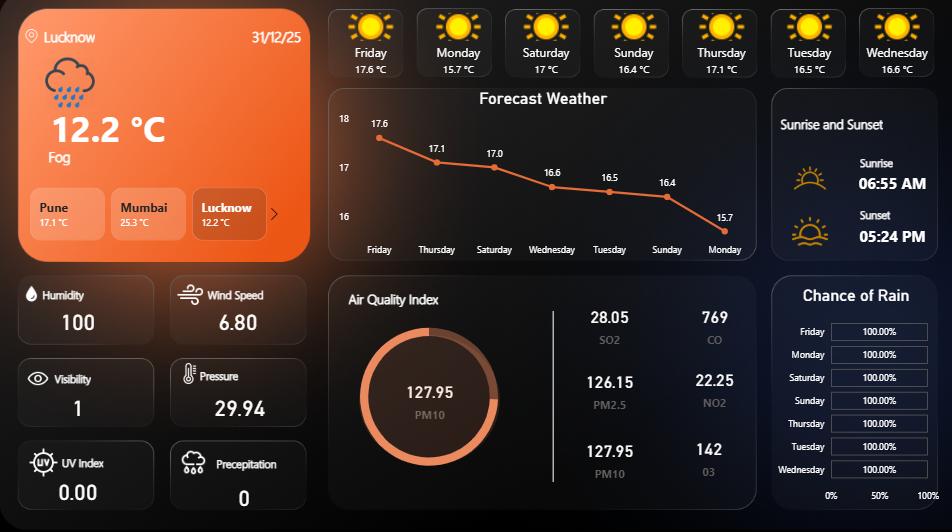

The dashboard page shown, as its layout file describes it:
{"tool":"powerbi","page":{"name":"Weather","canvas":[1280,720],"ordinal":0},"visuals":[{"type":"advancedSlicerVisual","fields":{"Values":["Locations.location.name"]},"box":[16.7,253.3,366.7,81.7],"z":0},{"type":"shape","box":[60,103.3,170,150],"z":1000},{"type":"shape","box":[66.7,200,150,35],"z":2000},{"type":"shape","box":[60,40,156.7,35],"z":3000},{"type":"shape","box":[268.3,40,135,35],"z":4000},{"type":"image","box":[20,48.3,46.7,18.3],"z":5000},{"type":"image","box":[43.3,86.7,101.7,66.7],"z":6000},{"type":"image","box":[20,390,46.7,21.7],"z":7000},{"type":"image","box":[200,383.3,110,36.7],"z":8000},{"type":"image","box":[35,488.3,31.7,51.7],"z":9000},{"type":"image","box":[240,488.3,28.3,38.3],"z":10000},{"type":"image","box":[240,605,38.3,40],"z":11000},{"type":"image","box":[35,605,46.7,40],"z":12000},{"type":"shape","box":[58.3,383.3,156.7,35],"z":13000},{"type":"shape","box":[278.3,383.3,156.7,35],"z":14000},{"type":"shape","box":[73.3,496.7,156.7,35],"z":15000},{"type":"shape","box":[268.3,491.7,156.7,35],"z":16000},{"type":"shape","box":[83.3,611.7,156.7,26.7],"z":17000},{"type":"shape","box":[290,610,156.7,35],"z":18000},{"type":"card","fields":{"Values":["Sum(Current.current.humidity)"]},"box":[68.3,411.7,73.3,50],"z":19000},{"type":"card","fields":{"Values":["Sum(Current.current.wind_kph)"]},"box":[268.3,411.7,100,50],"z":20000},{"type":"card","fields":{"Values":["Sum(Current.current.pressure_in)"]},"box":[278.3,526.7,85,50],"z":21000},{"type":"card","fields":{"Values":["Sum(Current.current.vis_km)"]},"box":[68.3,526.7,73.3,50],"z":22000},{"type":"card","fields":{"Values":["Sum(Current.current.uv)"]},"box":[68.3,638.3,73.3,50],"z":23000},{"type":"card","fields":{"Values":["Sum(Current.current.precip_in)"]},"box":[283.3,645,85,50],"z":24000},{"type":"advancedSlicerVisual","fields":{"Values":["Forecast_Day.day_name"]},"box":[435,20,822.5,107.5],"z":25000},{"type":"lineChart","title":"Forecast Weather","fields":{"Category":["Forecast_Day.day_name"],"Y":["Sum(Forecast_Day.forecast.forecastday.day.avgtemp_c)"]},"box":[447.5,127.5,555,232.5],"z":26000},{"type":"shape","box":[1042.5,155,157.5,35],"z":26001},{"type":"shape","box":[1147.5,281.2,110,26.2],"z":26002},{"type":"shape","box":[1111.2,226.2,158.8,55],"z":26003},{"type":"shape","box":[1111.2,295,158.8,55],"z":26004},{"type":"shape","box":[1148.8,208.8,121.2,35],"z":26005},{"type":"image","box":[1042.5,217.5,78.8,57.5],"z":26006},{"type":"image","box":[1042.5,293.8,78.8,47.5],"z":26007},{"type":"hundredPercentStackedBarChart","title":"Chance of Rain","fields":{"Category":["Forecast_Day.day_name"],"Y":["Sum(Forecast_Day.forecast.forecastday.day.daily_chance_of_rain)","Current.Left_Value_Rain"]},"box":[1027.1,390,230,298.6],"z":26008},{"type":"shape","box":[466,390,158,34],"z":26009},{"type":"card","fields":{"Values":["Sum(Current.current.air_quality.co)"]},"box":[904,396,100,92],"z":26010},{"type":"card","fields":{"Values":["Sum(Current.current.air_quality.o3)"]},"box":[896,572,100,92],"z":26011},{"type":"card","fields":{"Values":["Sum(Current.current.air_quality.pm10)"]},"box":[764,574,100,92],"z":26012},{"type":"card","fields":{"Values":["Sum(Current.current.air_quality.no2)"]},"box":[904,480,100,92],"z":26013},{"type":"card","fields":{"Values":["Sum(Current.current.air_quality.pm2_5)"]},"box":[764,482,100,92],"z":26014},{"type":"card","fields":{"Values":["Sum(Current.current.air_quality.so2)"]},"box":[764,396,100,92],"z":26015},{"type":"shape","box":[664,424,150,228],"z":26016},{"type":"card","fields":{"Values":["Sum(Current.current.air_quality.pm10)"]},"box":[524,496,100,92],"z":26017},{"type":"donutChart","fields":{"Y":["Sum(Current.current.air_quality.pm10)","Current.left_PM10"]},"box":[436,418,274,240],"z":26019},{"type":"shape","box":[480,456,188,174],"z":26020}]}

Visuals, with their boxes in screenshot pixels (x1, y1, x2, y2), scaled from the page's 1280x720 canvas onto the 952x532 screenshot:
advancedSlicerVisual - Locations.location.name: Rect(12, 187, 285, 248)
shape: Rect(45, 76, 171, 187)
shape: Rect(50, 148, 161, 174)
shape: Rect(45, 30, 161, 55)
shape: Rect(200, 30, 300, 55)
image: Rect(15, 36, 50, 49)
image: Rect(32, 64, 108, 113)
image: Rect(15, 288, 50, 304)
image: Rect(149, 283, 231, 310)
image: Rect(26, 361, 50, 399)
image: Rect(178, 361, 200, 389)
image: Rect(178, 447, 207, 477)
image: Rect(26, 447, 61, 477)
shape: Rect(43, 283, 160, 309)
shape: Rect(207, 283, 324, 309)
shape: Rect(55, 367, 171, 393)
shape: Rect(200, 363, 316, 389)
shape: Rect(62, 452, 178, 472)
shape: Rect(216, 451, 332, 477)
card - Sum(Current.current.humidity): Rect(51, 304, 105, 341)
card - Sum(Current.current.wind_kph): Rect(200, 304, 274, 341)
card - Sum(Current.current.pressure_in): Rect(207, 389, 270, 426)
card - Sum(Current.current.vis_km): Rect(51, 389, 105, 426)
card - Sum(Current.current.uv): Rect(51, 472, 105, 509)
card - Sum(Current.current.precip_in): Rect(211, 477, 274, 514)
advancedSlicerVisual - Forecast_Day.day_name: Rect(324, 15, 935, 94)
"Forecast Weather" lineChart: Rect(333, 94, 746, 266)
shape: Rect(775, 115, 892, 140)
shape: Rect(853, 208, 935, 227)
shape: Rect(826, 167, 945, 208)
shape: Rect(826, 218, 945, 259)
shape: Rect(854, 154, 945, 180)
image: Rect(775, 161, 834, 203)
image: Rect(775, 217, 834, 252)
"Chance of Rain" hundredPercentStackedBarChart: Rect(764, 288, 935, 509)
shape: Rect(347, 288, 464, 313)
card - Sum(Current.current.air_quality.co): Rect(672, 293, 747, 361)
card - Sum(Current.current.air_quality.o3): Rect(666, 423, 741, 491)
card - Sum(Current.current.air_quality.pm10): Rect(568, 424, 643, 492)
card - Sum(Current.current.air_quality.no2): Rect(672, 355, 747, 423)
card - Sum(Current.current.air_quality.pm2_5): Rect(568, 356, 643, 424)
card - Sum(Current.current.air_quality.so2): Rect(568, 293, 643, 361)
shape: Rect(494, 313, 605, 482)
card - Sum(Current.current.air_quality.pm10): Rect(390, 366, 464, 434)
donutChart - Sum(Current.current.air_quality.pm10) x Current.left_PM10: Rect(324, 309, 528, 486)
shape: Rect(357, 337, 497, 466)
